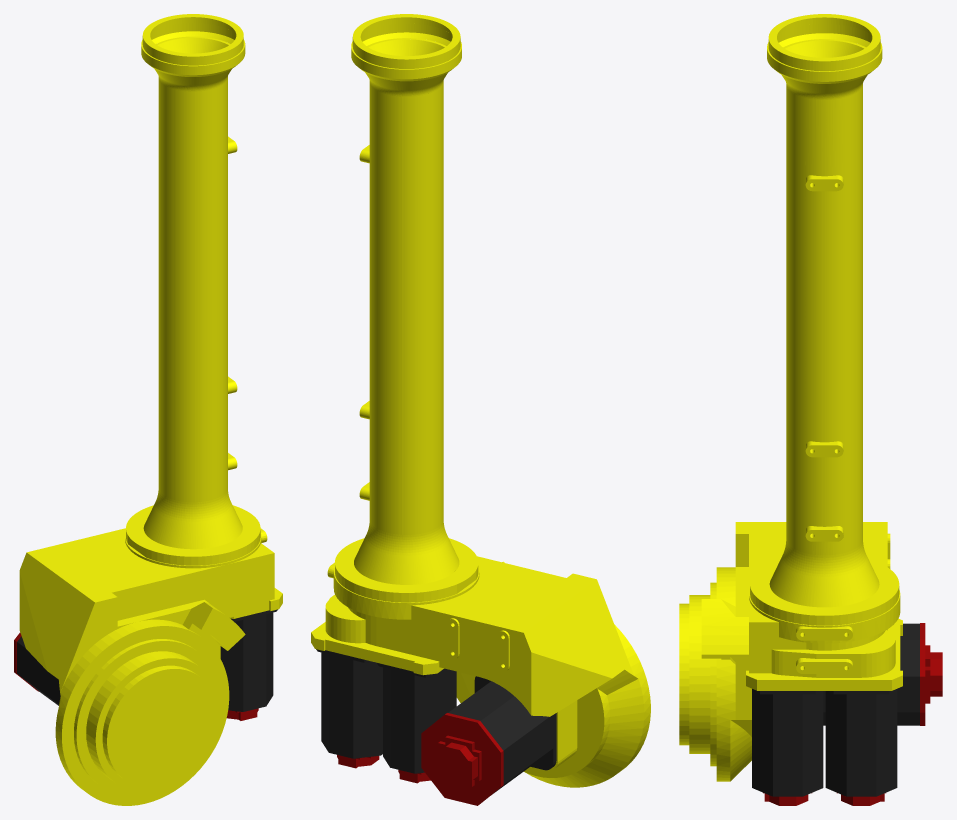
The picture shows the model from 3 angles, left to right: view 1: azimuth 30°, elevation 25°; view 2: azimuth 150°, elevation 25°; view 3: azimuth 270°, elevation 25°; orthographic projection. The views are drawn at different scales.
Visible parts, largest first — view 1: node; view 2: node; view 3: node.
Boxes of the visible parts, x1,y1,x2,y2 form: node: (14,14,282,805); node: (311,14,650,805); node: (679,14,942,805).
Bounding box in the file's own units: 563 × 1581 × 479.
